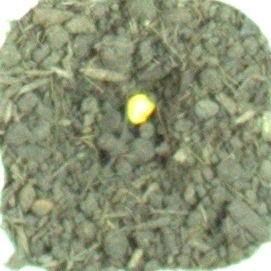pepper seed: (45, 29, 203, 156)
